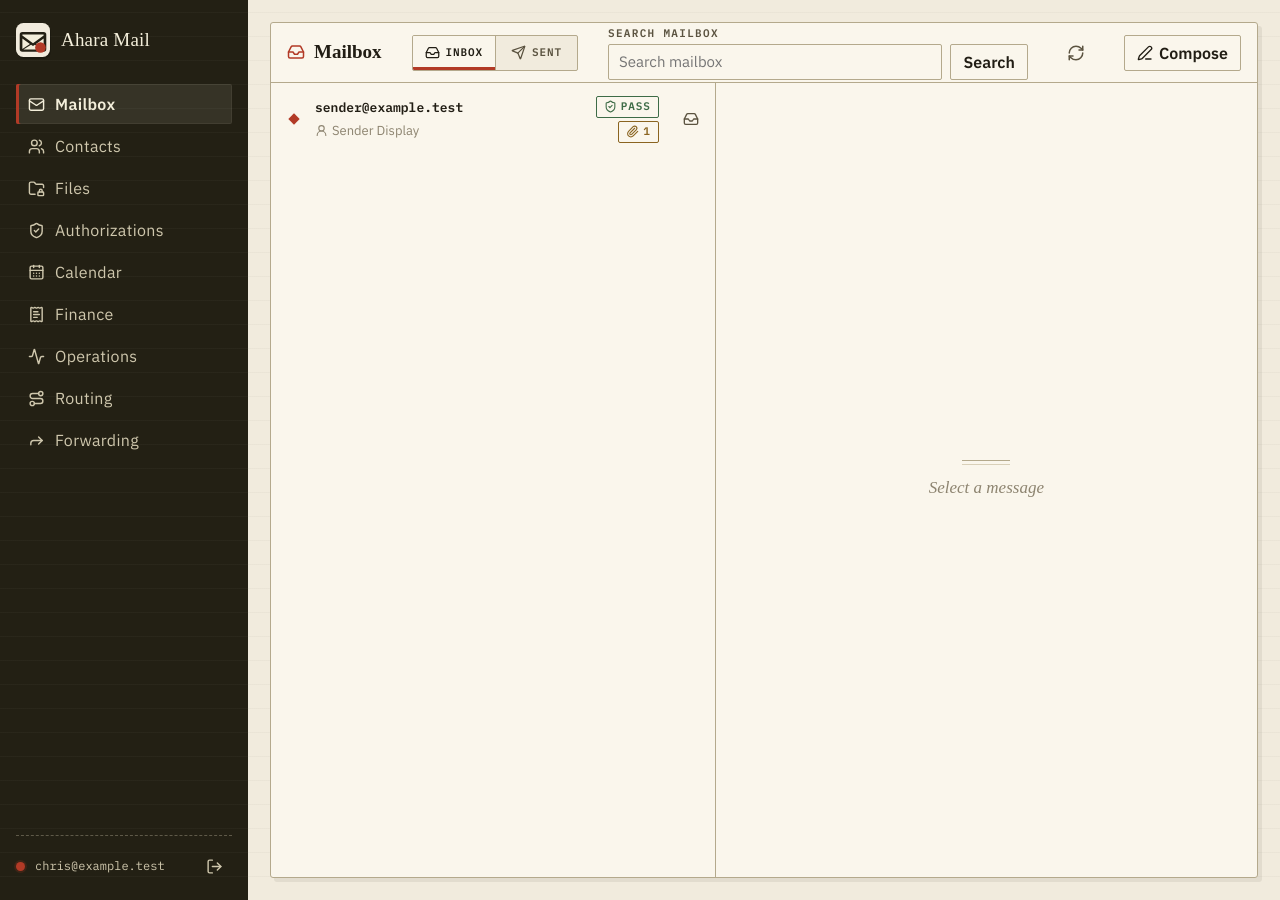
App › opens the routing admin panel from signed-in navigation
Click the button "Routing": (124, 398) [16,378,232,418]
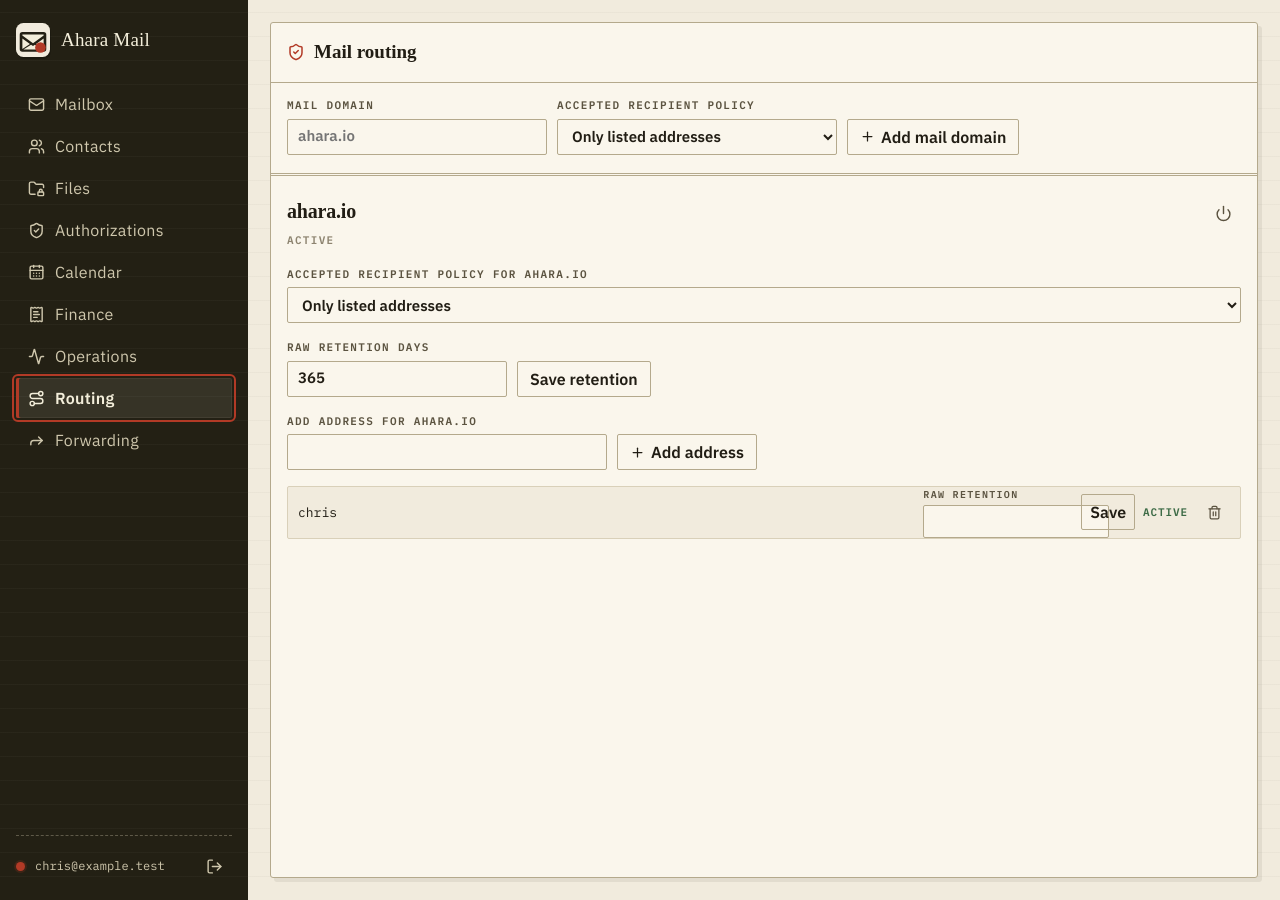
Result: the heading "ahara.io" is shown at [287,196,356,226]
